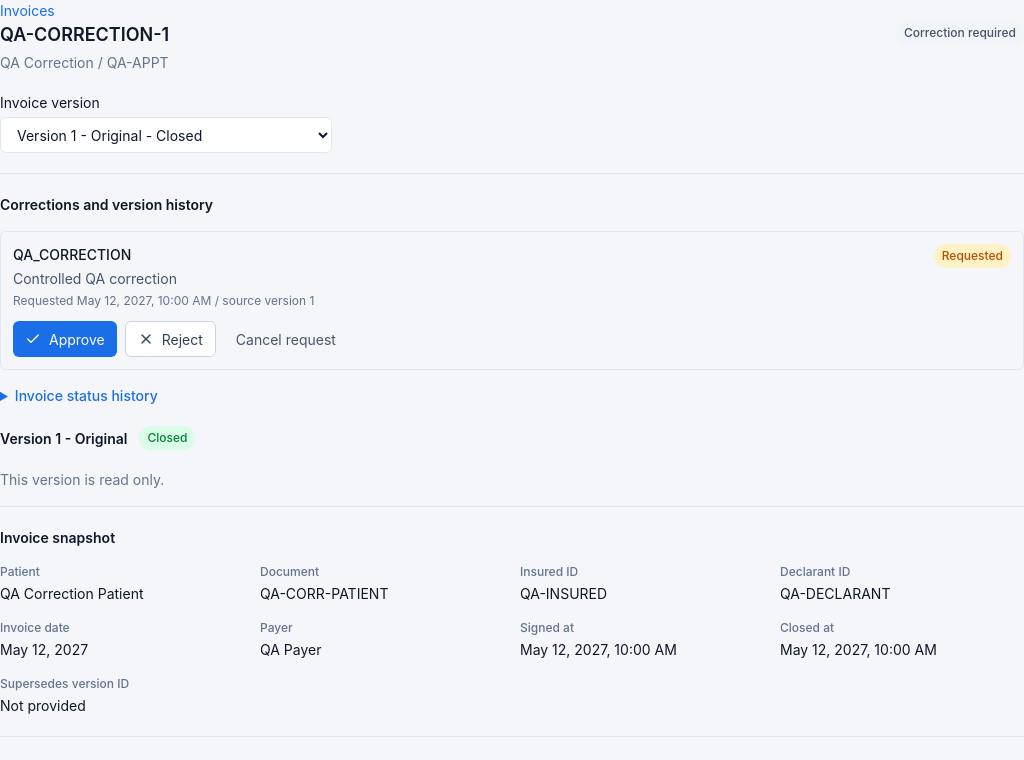
Test: F07 correction workflow UI › supports approval and rejection as separate authoritative transitions
The width and height of the screenshot is (1024, 760).
Click the button "Approve": (65, 339) [13,321,117,357]
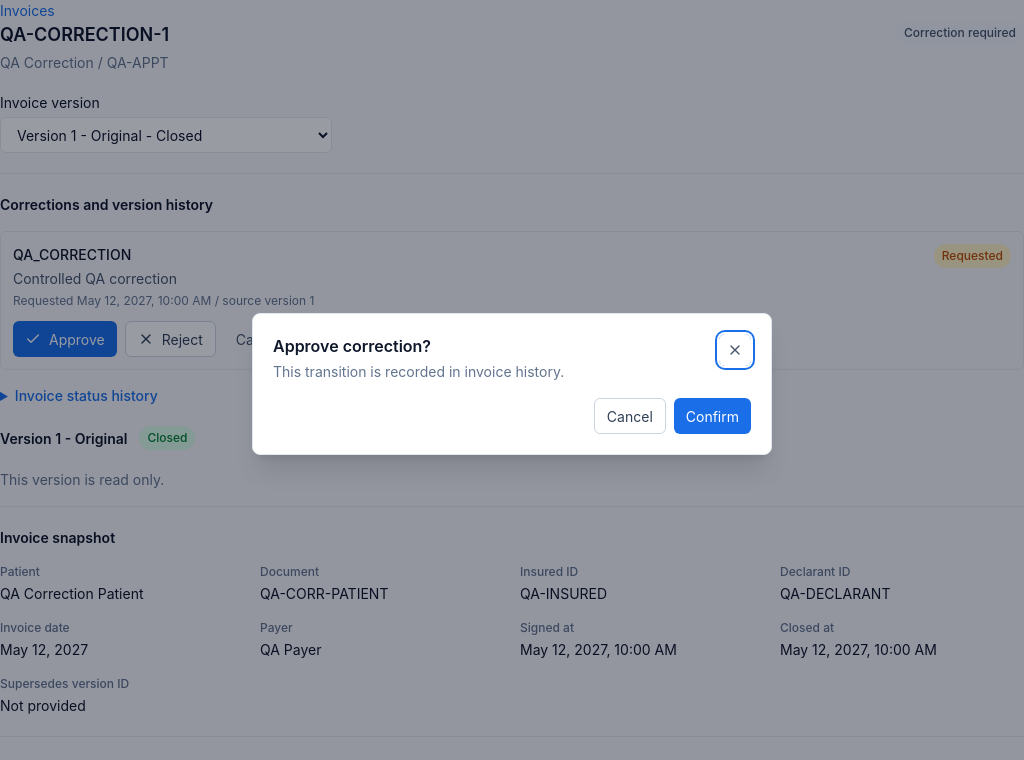
Click the button "Confirm": (712, 416) [674,398,751,434]
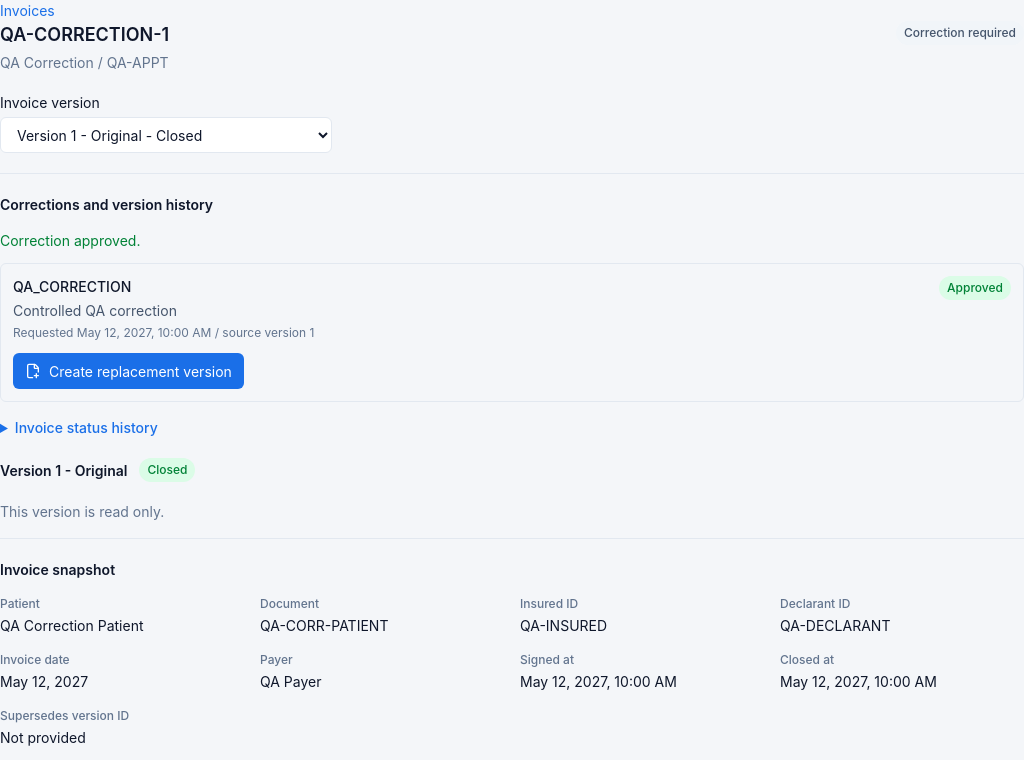
Expected: the text "Correction approved." is shown, [0,232,140,249]
